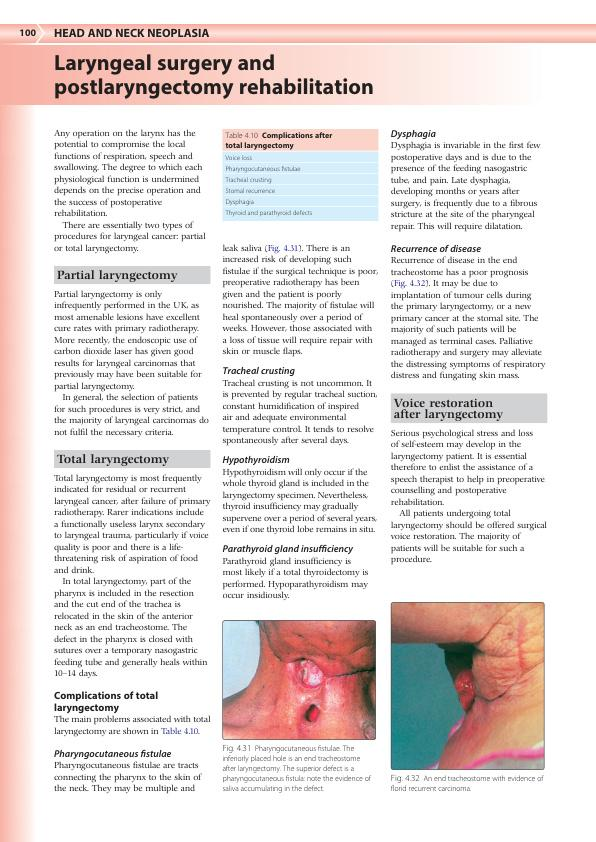caption: (221, 743, 372, 795), (390, 774, 544, 794), (224, 131, 334, 151)
chapter-heading: (53, 53, 374, 100)
header: (53, 28, 210, 38)
image: (390, 601, 546, 770), (221, 619, 377, 741)
section-heading: (393, 397, 504, 422), (55, 269, 179, 284), (56, 453, 170, 466)
sub-section-heading: (53, 690, 159, 714), (222, 543, 354, 555), (54, 749, 172, 760), (221, 454, 291, 466), (390, 244, 482, 253), (222, 366, 296, 377), (390, 129, 437, 140)
table: (222, 151, 378, 221)
text: (52, 473, 212, 681), (52, 289, 209, 439), (390, 428, 548, 566), (52, 127, 208, 255), (390, 255, 546, 382), (221, 243, 379, 357), (390, 141, 542, 233), (221, 378, 377, 447), (222, 467, 378, 535), (222, 556, 369, 601), (53, 760, 204, 795), (53, 715, 212, 738)
